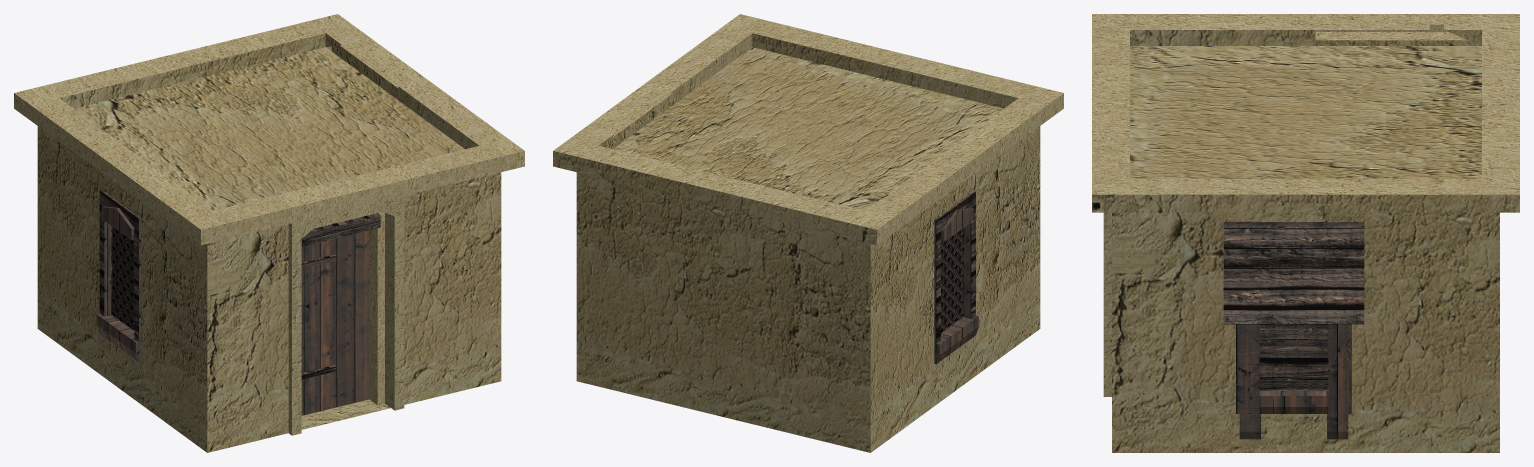
File: CoreRoom.fbx
3 views of the same model, side by side, from view 1: azimuth 30°, elevation 25°; view 2: azimuth 150°, elevation 25°; view 3: azimuth 270°, elevation 25° (orthographic). The views are drawn at different scales.
Parts seen in each view (by area): view 1: CoreRoom; view 2: CoreRoom; view 3: CoreRoom.
Part boxes in pixels (<box>): CoreRoom: <box>14,14,524,452</box>; CoreRoom: <box>553,14,1063,452</box>; CoreRoom: <box>1092,14,1519,452</box>.
Bounding box in the file's own units: 4309 × 2790 × 4058.
